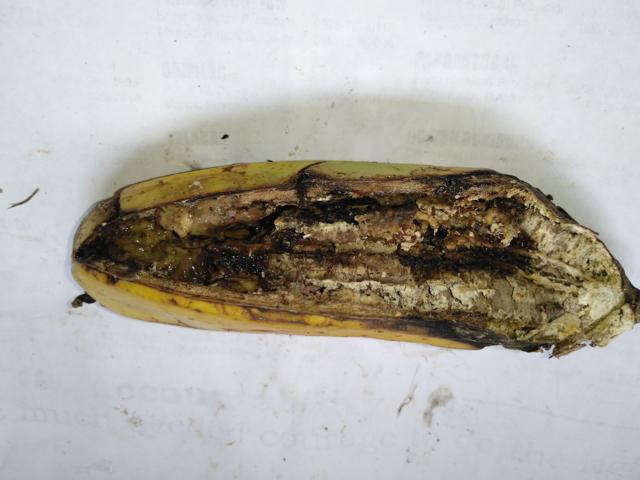rotten: (57, 136, 629, 359)
